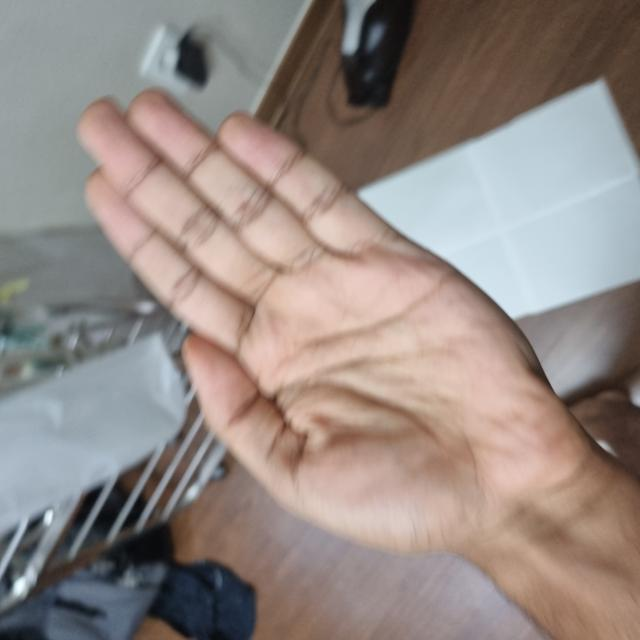Paper: (87, 190, 400, 564)
